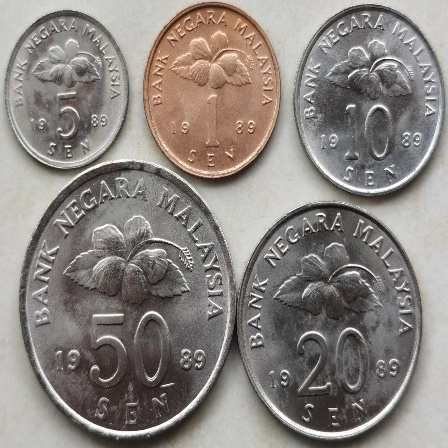10: (292, 3, 446, 199)
1c: (142, 0, 283, 180)
20: (235, 199, 425, 442)
5: (4, 8, 131, 171)
50: (19, 158, 238, 441)
